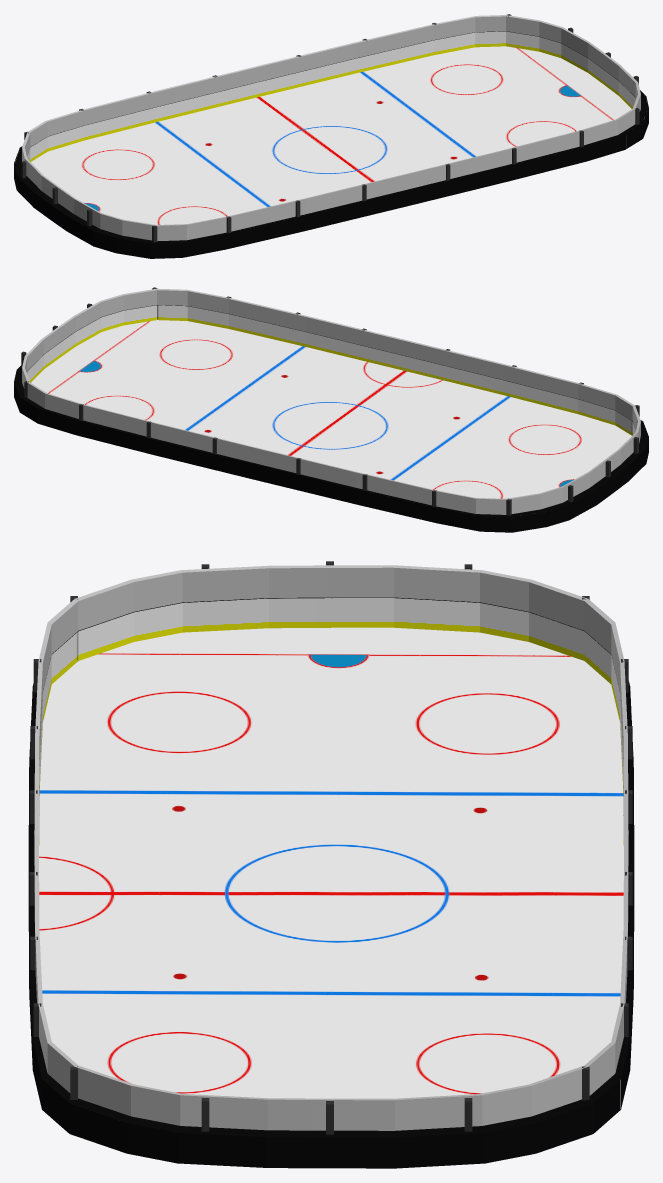
The model's file is Mesh_rink.obj.
The picture shows the model from 3 angles, top to bottom: view 1: azimuth 30°, elevation 25°; view 2: azimuth 150°, elevation 25°; view 3: azimuth 270°, elevation 25°; orthographic projection. The views are drawn at different scales.
Parts seen in each view (by area): view 1: Ground_Plane_Plane, Walls_Plane.001; view 2: Ground_Plane_Plane, Walls_Plane.001; view 3: Ground_Plane_Plane, Walls_Plane.001.
Boxes of the visible parts, x1,y1,x2,y2 form: Ground_Plane_Plane: (31, 46, 631, 224); Walls_Plane.001: (14, 14, 648, 258); Ground_Plane_Plane: (31, 320, 631, 498); Walls_Plane.001: (14, 287, 648, 532); Ground_Plane_Plane: (39, 627, 623, 1098); Walls_Plane.001: (28, 561, 634, 1168).
Size of the model in its own units: 3.82 by 0.1983 by 1.78.
